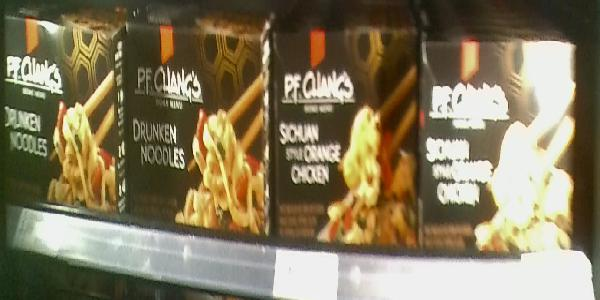pizza1: (422, 40, 575, 259), (273, 28, 419, 253), (122, 22, 271, 236), (1, 16, 122, 212)
